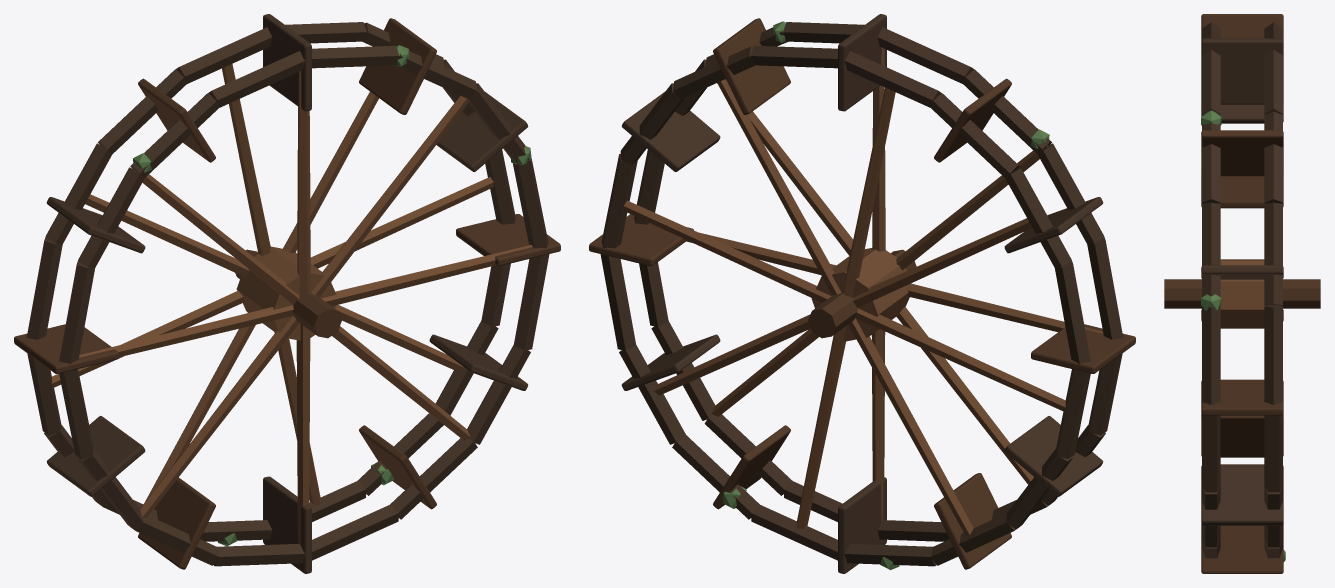
Rendered from roue_eau.glb.
3 renders of one model, left to right at view 1: azimuth 30°, elevation 25°; view 2: azimuth 150°, elevation 25°; view 3: azimuth 270°, elevation 25°, orthographic. The views are drawn at different scales.
Parts seen in each view (by area): view 1: roue_eau; view 2: roue_eau; view 3: roue_eau.
Boxes of the visible parts, x1,y1,x2,y2 form: roue_eau: [14, 14, 560, 573]; roue_eau: [589, 14, 1135, 573]; roue_eau: [1164, 14, 1320, 573].
Size of the model in its own units: 3.96 by 3.96 by 1.1.
